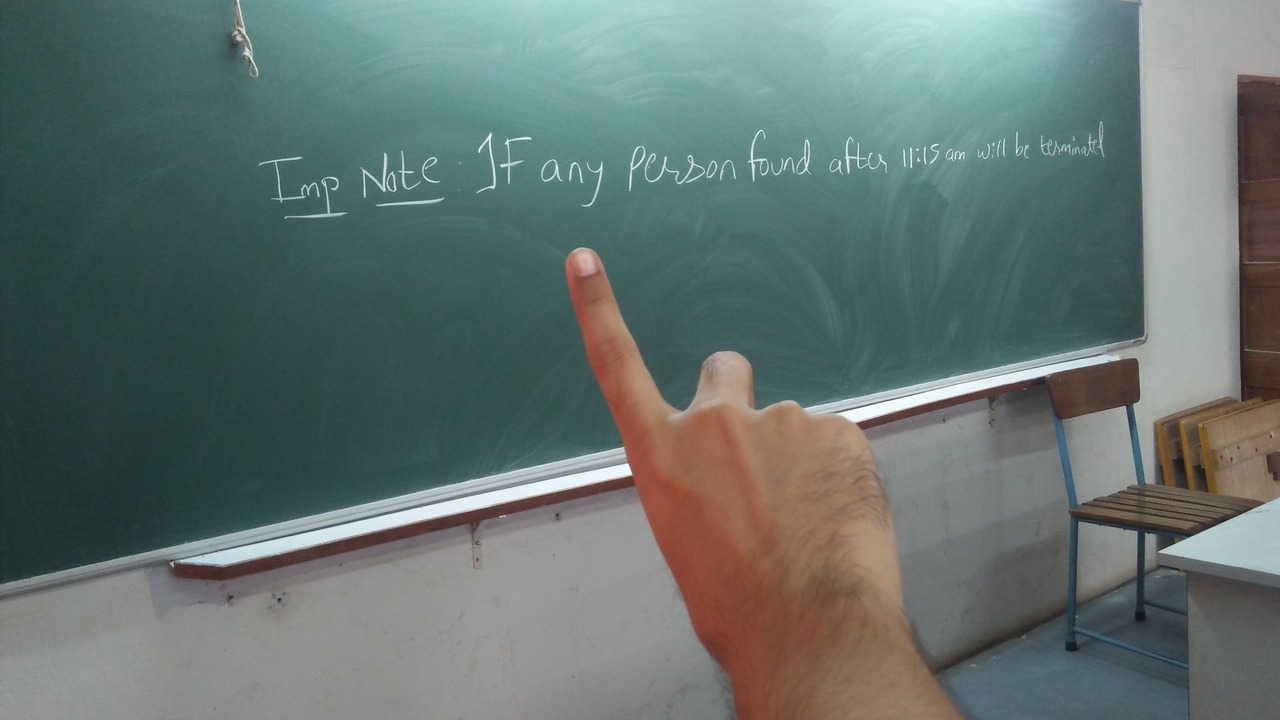fingertip: (558, 238, 614, 296)
